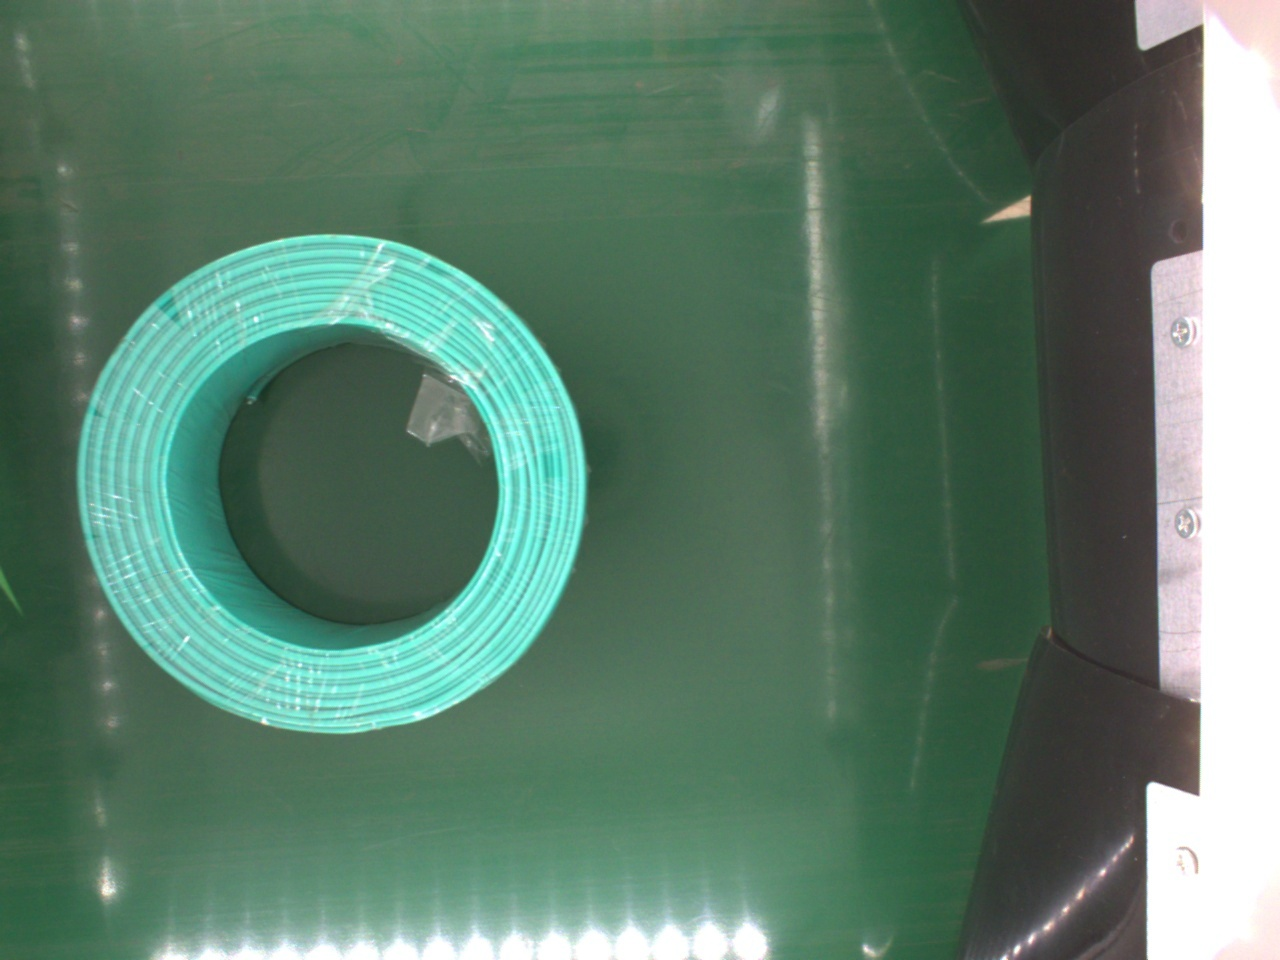green: (73, 233, 587, 739)
